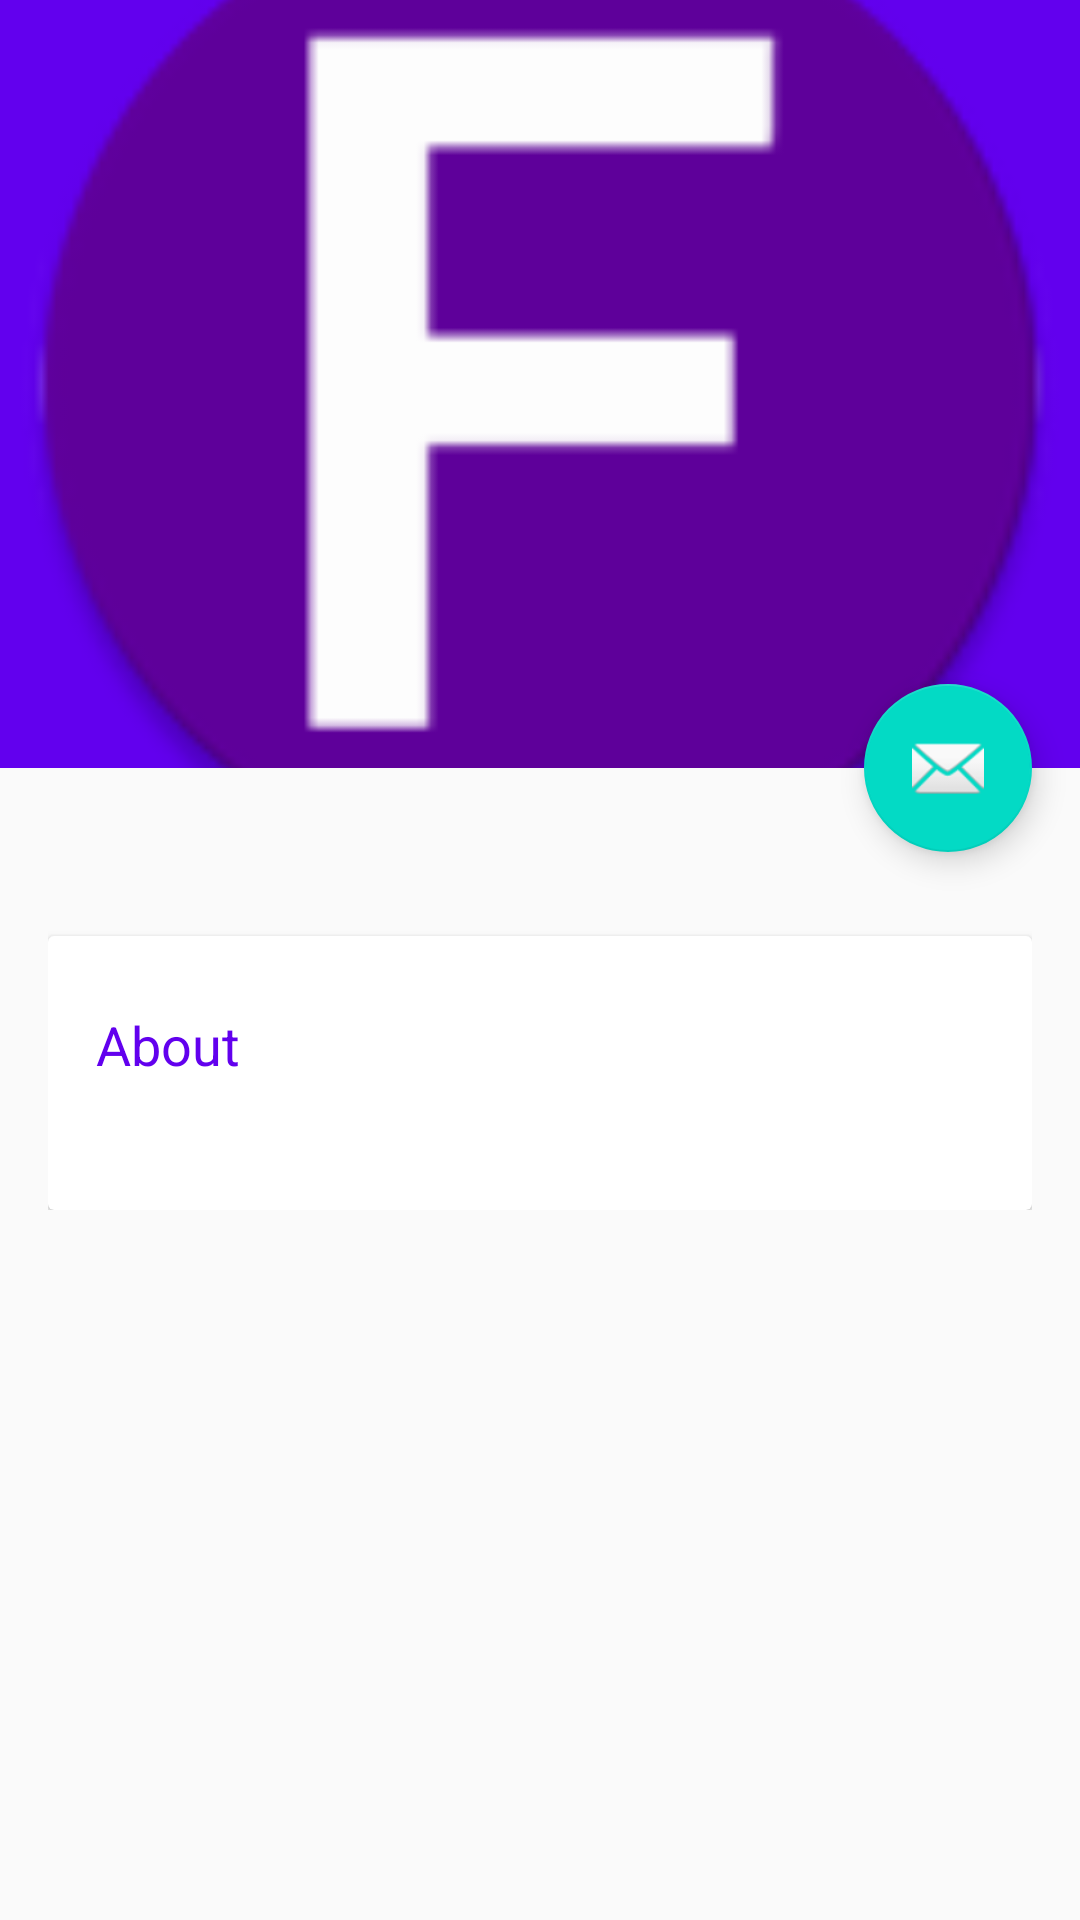

Screen size 1080*1920. Icon name, then its center in pixels as [x,y]:
email: [948,768]
